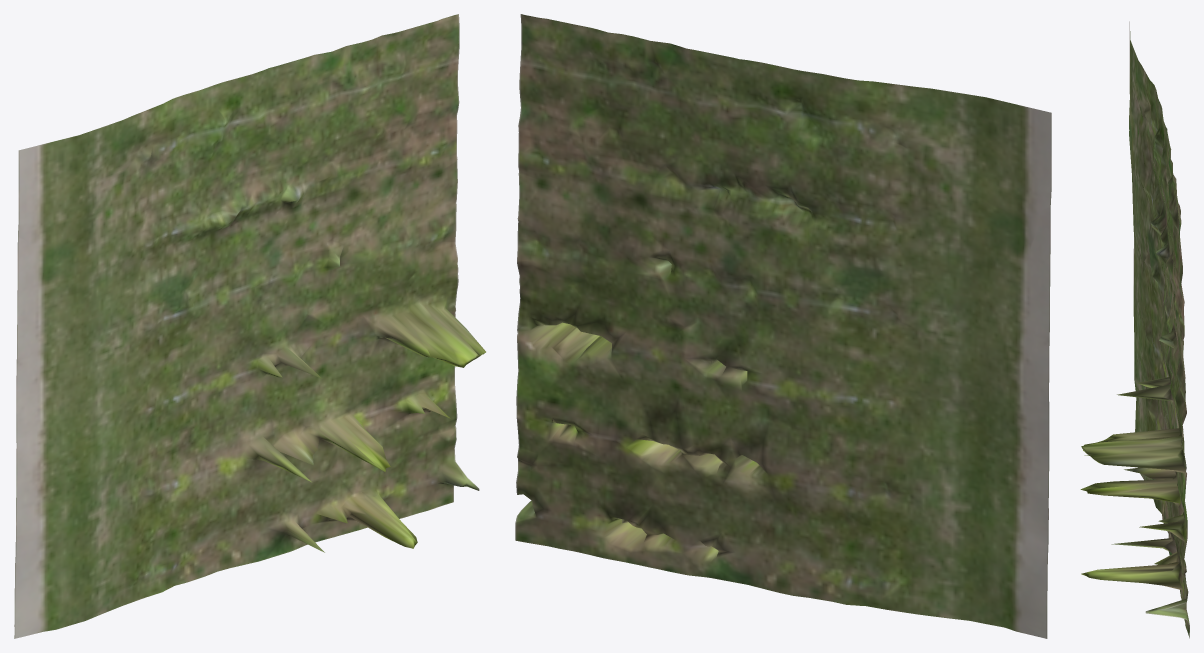
File: map_110_90.obj
The picture shows the model from 3 angles, left to right: view 1: azimuth 30°, elevation 25°; view 2: azimuth 150°, elevation 25°; view 3: azimuth 270°, elevation 25°; orthographic projection. The views are drawn at different scales.
Parts seen in each view (by area): view 1: map_110_90.obj; view 2: map_110_90.obj; view 3: map_110_90.obj.
Part boxes in pixels (left/top/right/bottom): map_110_90.obj: left=14, top=14, right=485, bottom=638; map_110_90.obj: left=515, top=14, right=1051, bottom=638; map_110_90.obj: left=1080, top=21, right=1189, bottom=638.
Bounding box in the file's own units: 10 × 10 × 2.34.
1 material, 1 textured.
